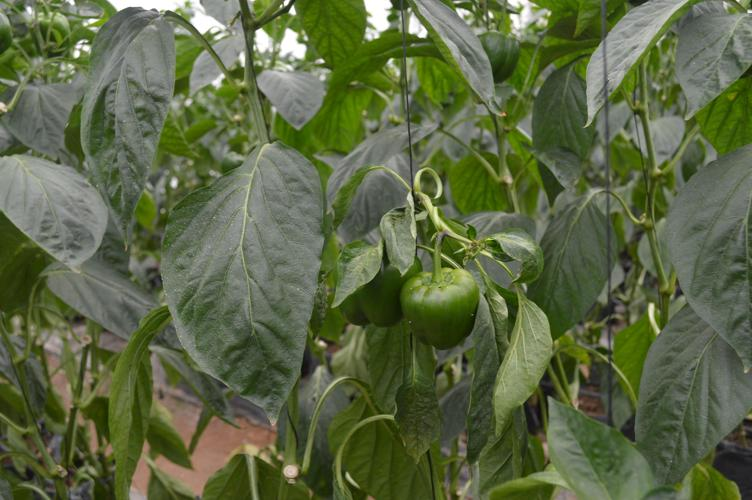BellPepper: (400, 258, 488, 353), (315, 245, 419, 325)
